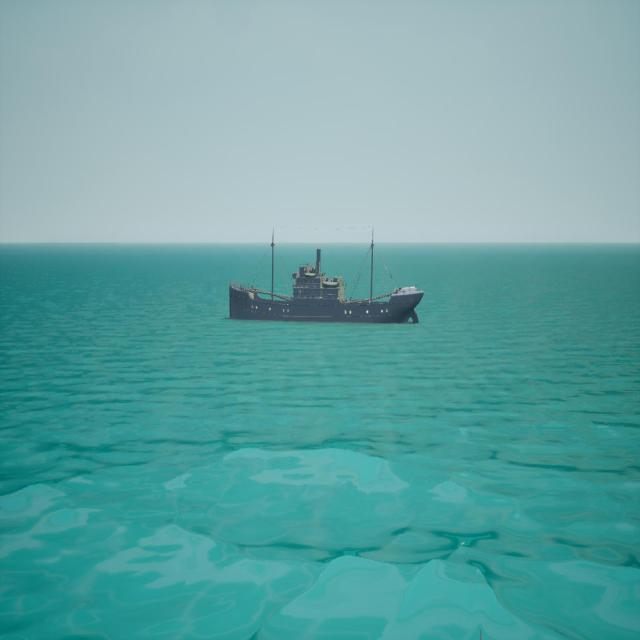fishing ship: (230, 227, 425, 324)
